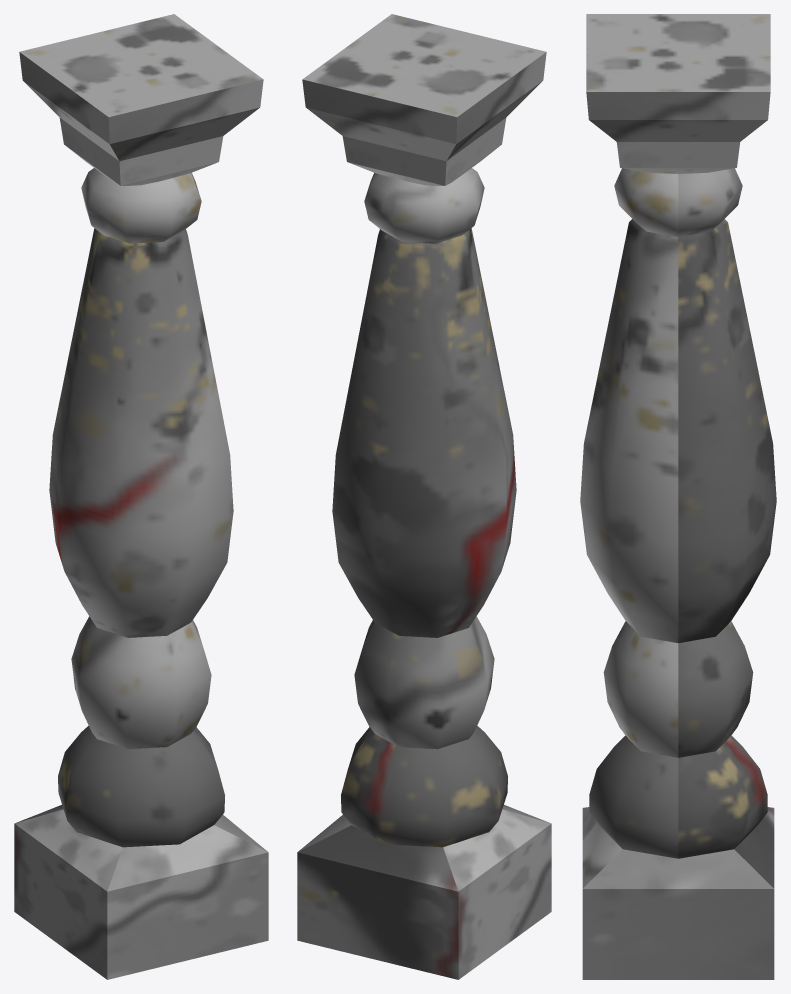
The model's file is Broken_Railing_3_FINAL.fbx.
3 views of the same model, side by side, from view 1: azimuth 30°, elevation 25°; view 2: azimuth 150°, elevation 25°; view 3: azimuth 270°, elevation 25° (orthographic). The views are drawn at different scales.
Parts seen in each view (by area): view 1: Broken_Railing_3; view 2: Broken_Railing_3; view 3: Broken_Railing_3.
Part boxes in pixels (x1,y1,x2,y2): Broken_Railing_3: (14,14,268,979); Broken_Railing_3: (297,14,551,979); Broken_Railing_3: (580,14,776,979).
Bounding box in the file's own units: 13.24 × 65.88 × 13.24.
